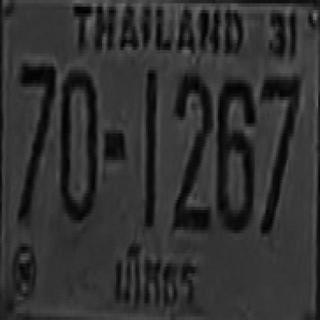N00: (60, 67, 97, 220)
N01: (144, 67, 155, 227)
N02: (172, 70, 211, 230)
N06: (215, 75, 252, 228)
N07: (258, 72, 299, 232), (16, 60, 55, 220)
P77: (113, 239, 200, 314)
